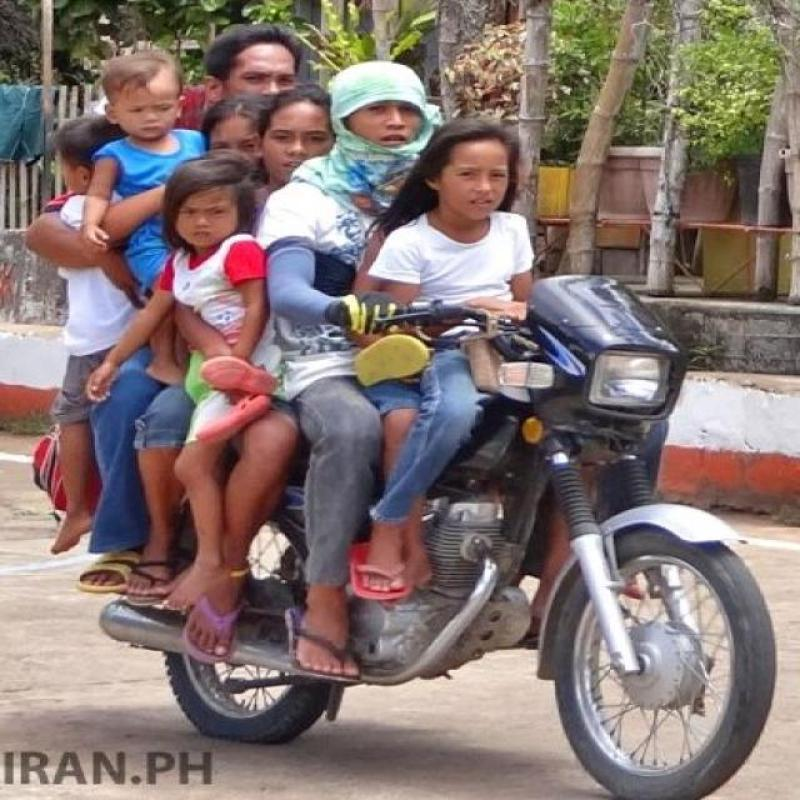nohelmet: (158, 150, 264, 260), (314, 56, 438, 150), (195, 14, 313, 110), (416, 118, 529, 215)
